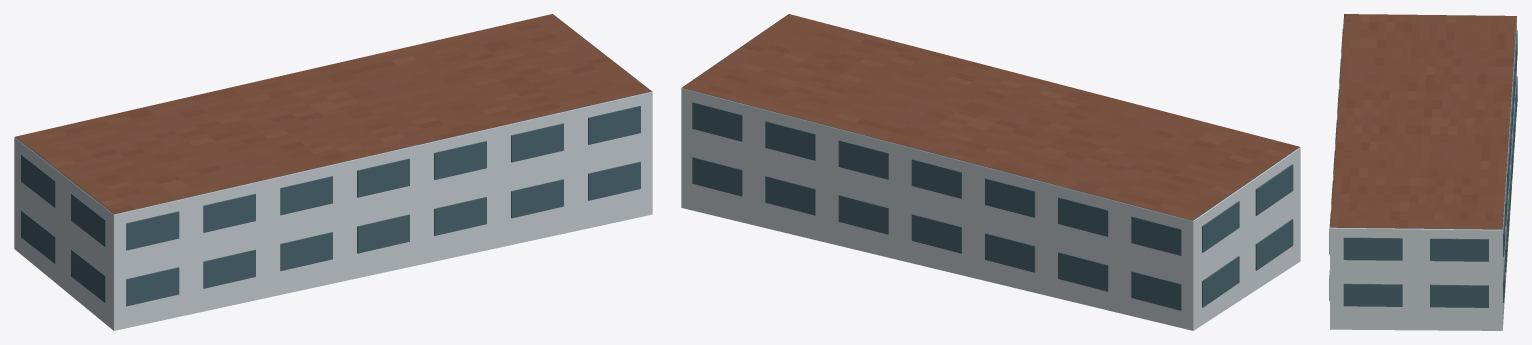
Rendered from fragments.glb.
3 views of the same model, side by side, from view 1: azimuth 30°, elevation 25°; view 2: azimuth 150°, elevation 25°; view 3: azimuth 270°, elevation 25° (orthographic). The views are drawn at different scales.
Visible parts, largest first — view 1: SM_myeonhak_Fragment_022, SM_myeonhak_Fragment_008, SM_myeonhak_Fragment_034, SM_myeonhak_Fragment_007, SM_myeonhak_Fragment_062, SM_myeonhak_Fragment_019, SM_myeonhak_Fragment_048, SM_myeonhak_Fragment_038, SM_myeonhak_Fragment_063, SM_myeonhak_Fragment_047, SM_myeonhak_Fragment_009, SM_myeonhak_Fragment_040 (+28 smaller); view 2: SM_myeonhak_Fragment_020, SM_myeonhak_Fragment_023, SM_myeonhak_Fragment_051, SM_myeonhak_Fragment_002, SM_myeonhak_Fragment_050, SM_myeonhak_Fragment_013, SM_myeonhak_Fragment_030, SM_myeonhak_Fragment_005, SM_myeonhak_Fragment_060, SM_myeonhak_Fragment_037, SM_myeonhak_Fragment_040, SM_myeonhak_Fragment_009 (+28 smaller); view 3: SM_myeonhak_Fragment_025, SM_myeonhak_Fragment_003, SM_myeonhak_Fragment_031, SM_myeonhak_Fragment_035, SM_myeonhak_Fragment_009, SM_myeonhak_Fragment_037, SM_myeonhak_Fragment_023, SM_myeonhak_Fragment_047, SM_myeonhak_Fragment_010, SM_myeonhak_Fragment_006, SM_myeonhak_Fragment_045, SM_myeonhak_Fragment_058 (+21 smaller).
Part boxes in pixels (x1=…): SM_myeonhak_Fragment_022: x1=178, y1=194, x2=271, y2=311; SM_myeonhak_Fragment_008: x1=350, y1=142, x2=439, y2=253; SM_myeonhak_Fragment_034: x1=280, y1=143, x2=383, y2=235; SM_myeonhak_Fragment_007: x1=91, y1=210, x2=179, y2=309; SM_myeonhak_Fragment_062: x1=586, y1=99, x2=652, y2=200; SM_myeonhak_Fragment_019: x1=457, y1=94, x2=563, y2=177; SM_myeonhak_Fragment_048: x1=236, y1=163, x2=324, y2=280; SM_myeonhak_Fragment_038: x1=511, y1=113, x2=589, y2=218; SM_myeonhak_Fragment_063: x1=366, y1=196, x2=486, y2=274; SM_myeonhak_Fragment_047: x1=129, y1=157, x2=243, y2=227; SM_myeonhak_Fragment_009: x1=487, y1=66, x2=609, y2=116; SM_myeonhak_Fragment_040: x1=69, y1=165, x2=167, y2=246; SM_myeonhak_Fragment_020: x1=1058, y1=182, x2=1139, y2=315; SM_myeonhak_Fragment_023: x1=985, y1=139, x2=1094, y2=239; SM_myeonhak_Fragment_051: x1=765, y1=114, x2=888, y2=198; SM_myeonhak_Fragment_002: x1=871, y1=123, x2=974, y2=215; SM_myeonhak_Fragment_050: x1=1128, y1=202, x2=1229, y2=280; SM_myeonhak_Fragment_013: x1=1131, y1=256, x2=1239, y2=330; SM_myeonhak_Fragment_030: x1=692, y1=77, x2=784, y2=147; SM_myeonhak_Fragment_005: x1=985, y1=231, x2=1081, y2=303; SM_myeonhak_Fragment_060: x1=928, y1=141, x2=1012, y2=248; SM_myeonhak_Fragment_037: x1=1089, y1=163, x2=1203, y2=226; SM_myeonhak_Fragment_040: x1=1195, y1=134, x2=1297, y2=215; SM_myeonhak_Fragment_009: x1=771, y1=25, x2=876, y2=76; SM_myeonhak_Fragment_025: x1=1330, y1=211, x2=1407, y2=283; SM_myeonhak_Fragment_003: x1=1407, y1=210, x2=1488, y2=284; SM_myeonhak_Fragment_031: x1=1343, y1=270, x2=1436, y2=330; SM_myeonhak_Fragment_035: x1=1430, y1=277, x2=1503, y2=330; SM_myeonhak_Fragment_009: x1=1331, y1=176, x2=1429, y2=217; SM_myeonhak_Fragment_037: x1=1421, y1=24, x2=1515, y2=64; SM_myeonhak_Fragment_023: x1=1432, y1=64, x2=1513, y2=135; SM_myeonhak_Fragment_047: x1=1340, y1=34, x2=1427, y2=73; SM_myeonhak_Fragment_010: x1=1377, y1=46, x2=1481, y2=85; SM_myeonhak_Fragment_006: x1=1410, y1=161, x2=1505, y2=199; SM_myeonhak_Fragment_045: x1=1384, y1=146, x2=1474, y2=180; SM_myeonhak_Fragment_058: x1=1342, y1=102, x2=1426, y2=136.
Size of the model in its own units: 2.2 by 0.4833 by 0.8092.
Materials: 5 (1 with a texture image).
